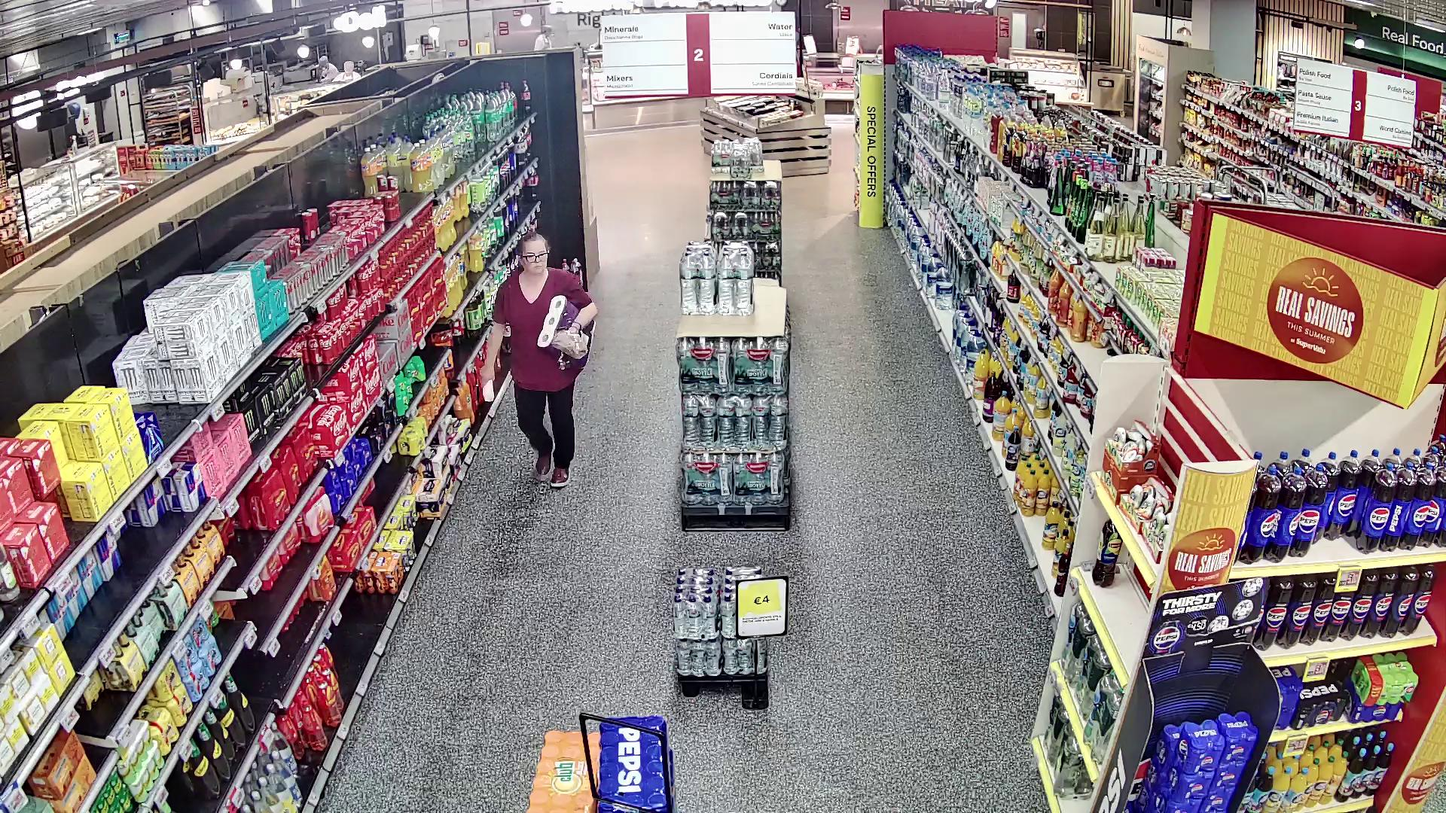carrying-item: (537, 294, 586, 360)
person: (481, 232, 598, 488)
person-with-carrying-item: (480, 231, 599, 486)
